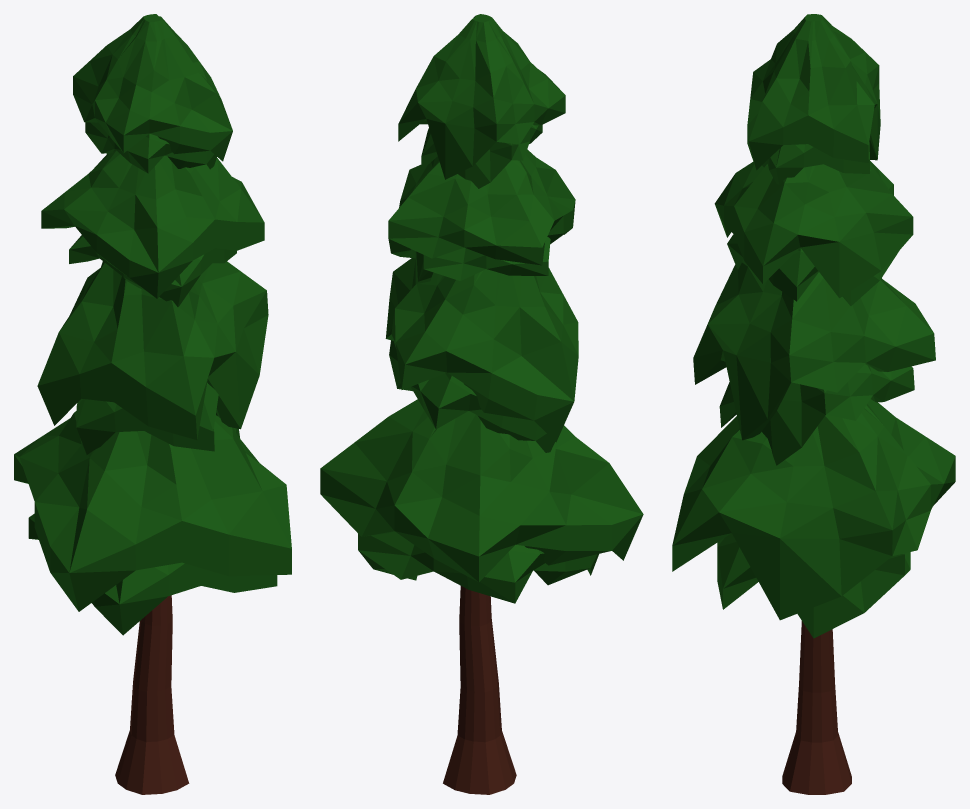
File: Trees3.fbx
3 renders of one model, left to right at view 1: azimuth 30°, elevation 25°; view 2: azimuth 150°, elevation 25°; view 3: azimuth 270°, elevation 25°, orthographic.
Parts seen in each view (by area): view 1: Trunk3; view 2: Trunk3; view 3: Trunk3.
Part boxes in pixels (x1,y1,x2,y2): Trunk3: (14,14,291,794); Trunk3: (320,14,643,794); Trunk3: (672,14,955,794).
Bounding box in the file's own units: 3621 × 10737 × 3621.
